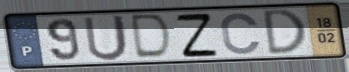9: (44, 18, 82, 63)
C: (218, 11, 263, 57)
D: (262, 8, 309, 58), (130, 12, 174, 61)
U: (82, 13, 131, 63)
Z: (173, 11, 221, 59)
